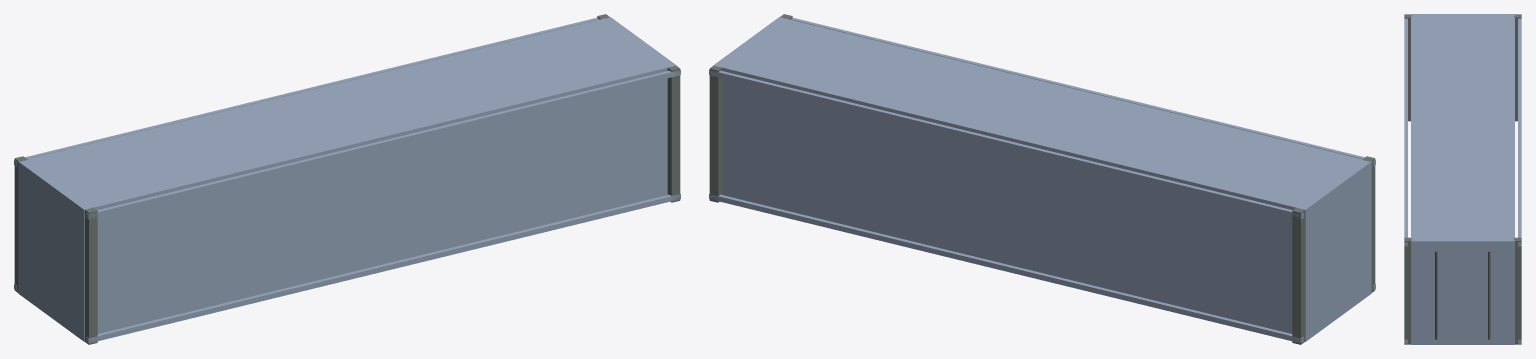
3 renders of one model, left to right at view 1: azimuth 30°, elevation 25°; view 2: azimuth 150°, elevation 25°; view 3: azimuth 270°, elevation 25°, orthographic. The views are drawn at different scales.
Size of the model in its own units: 12.36 by 2.6 by 2.66.
